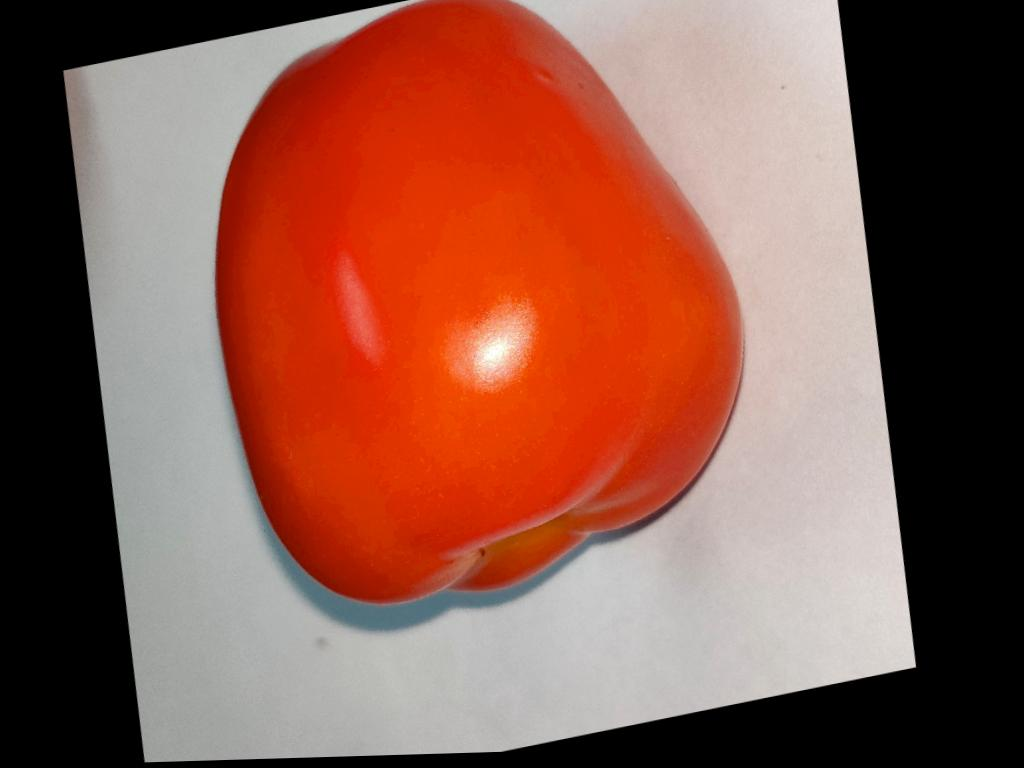tomato: (216, 0, 741, 602)
